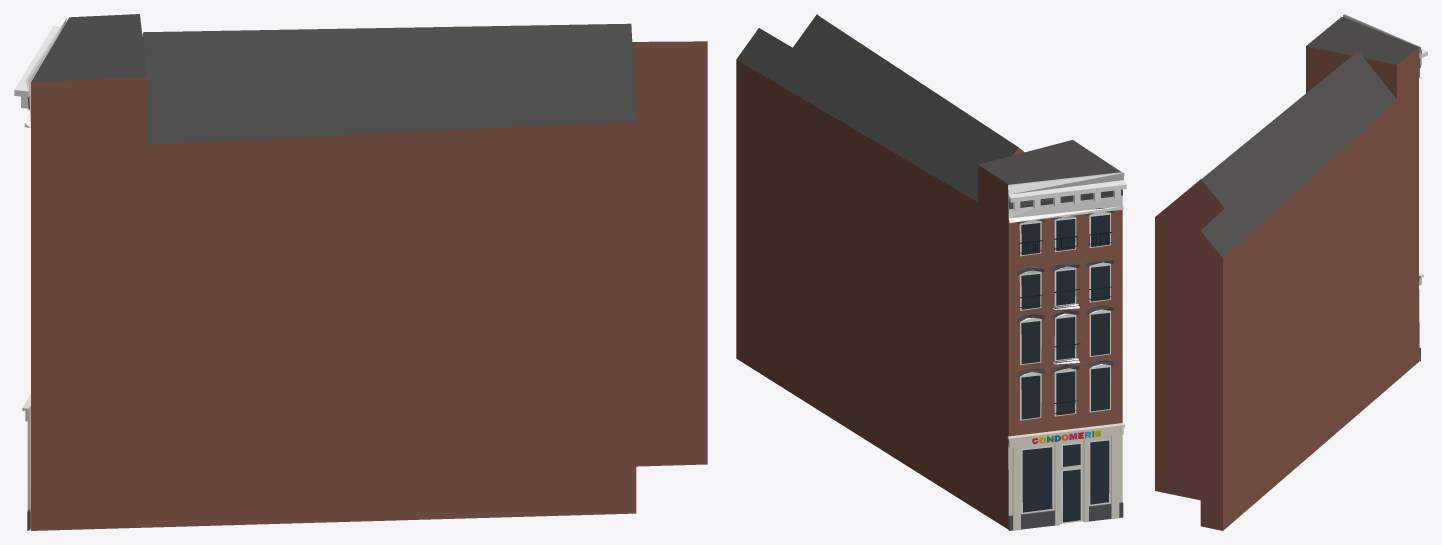
Rendered from condomerie.lod1.glb.
3 views of the same model, side by side, from view 1: azimuth 30°, elevation 25°; view 2: azimuth 150°, elevation 25°; view 3: azimuth 270°, elevation 25° (orthographic). The views are drawn at different scales.
Visible parts, largest first — view 1: condomerie; view 2: condomerie; view 3: condomerie.
Boxes of the visible parts, left/top/right/bottom form: condomerie: left=14, top=14, right=707, bottom=530; condomerie: left=736, top=14, right=1126, bottom=530; condomerie: left=1155, top=14, right=1427, bottom=530.
Size of the model in its own units: 26.5 by 19.41 by 14.92.
